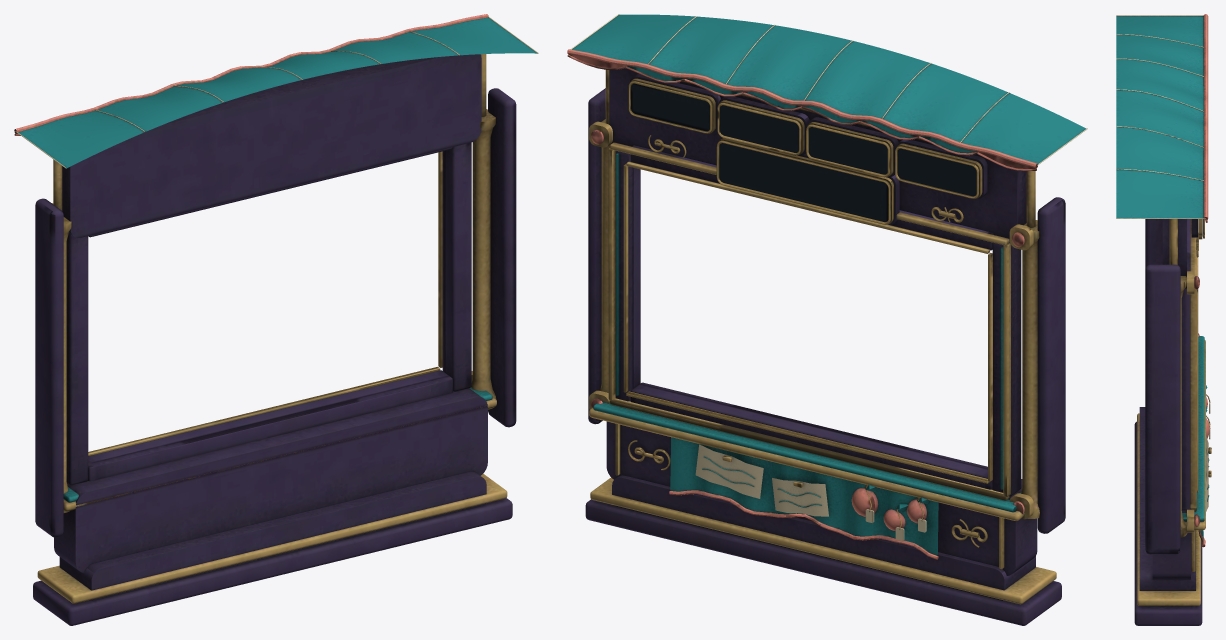
The picture shows the model from 3 angles, left to right: view 1: azimuth 30°, elevation 25°; view 2: azimuth 150°, elevation 25°; view 3: azimuth 270°, elevation 25°; orthographic projection. The views are drawn at different scales.
Parts seen in each view (by area): view 1: Violet_enamel, Warm_brass, Woven_teal, Coral_cloth_and_fruit; view 2: Violet_enamel, Woven_teal, Warm_brass, Even_display_face, Coral_cloth_and_fruit, Ivory_paper; view 3: Violet_enamel, Woven_teal, Warm_brass, Coral_cloth_and_fruit, Ivory_paper.
Boxes of the visible parts, box(x1,y1,x2,y2) form: Violet_enamel: box(33, 54, 516, 625); Warm_brass: box(37, 54, 507, 603); Woven_teal: box(18, 17, 537, 502); Coral_cloth_and_fruit: box(14, 14, 488, 135); Violet_enamel: box(585, 68, 1065, 625); Woven_teal: box(572, 14, 1086, 555); Warm_brass: box(589, 68, 1056, 604); Even_display_face: box(631, 83, 976, 221); Coral_cloth_and_fruit: box(567, 49, 1037, 559); Ivory_paper: box(571, 14, 1087, 540); Violet_enamel: box(1134, 219, 1202, 625); Woven_teal: box(1116, 16, 1209, 541); Warm_brass: box(1137, 219, 1211, 605); Coral_cloth_and_fruit: box(1194, 14, 1209, 547); Ivory_paper: box(1116, 15, 1210, 511).
Size of the model in its own units: 8.88 by 9.01 by 1.76.
Materials: 6 (6 with a texture image).
